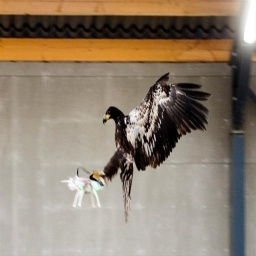Bird: (89, 74, 213, 223)
UAV: (50, 161, 110, 216)
